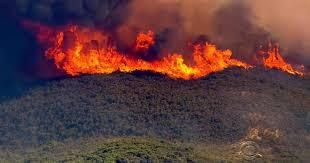fire: (258, 43, 306, 78)
